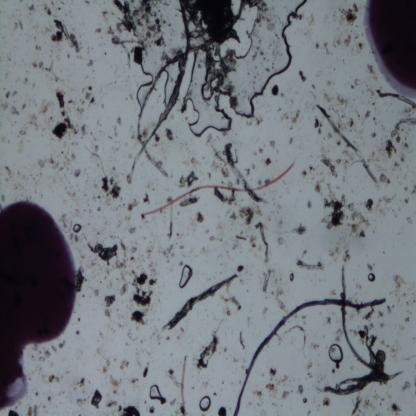Air bubble: (226, 0, 308, 119), (186, 53, 233, 139), (216, 4, 262, 58), (178, 264, 193, 288), (135, 81, 149, 106), (327, 343, 344, 363), (148, 382, 164, 401), (198, 395, 212, 412), (367, 272, 377, 284), (72, 222, 82, 233), (288, 271, 294, 282)
Background material: (112, 0, 168, 63), (187, 1, 260, 45), (201, 47, 238, 113), (321, 194, 370, 236), (50, 18, 81, 54), (328, 93, 355, 132), (131, 269, 158, 306), (195, 332, 218, 370), (86, 238, 120, 262), (283, 323, 308, 355), (265, 368, 287, 400), (29, 56, 57, 81), (358, 323, 378, 357), (99, 169, 122, 198), (238, 200, 261, 229), (319, 151, 341, 179), (260, 264, 279, 292), (219, 294, 242, 317), (52, 115, 76, 137), (18, 114, 40, 138), (376, 193, 398, 217), (39, 156, 75, 170), (338, 3, 360, 25), (214, 186, 237, 207), (271, 286, 288, 314), (392, 271, 408, 296), (116, 238, 128, 270), (74, 262, 86, 294), (101, 293, 116, 318), (130, 308, 149, 326), (101, 8, 114, 34), (282, 109, 304, 124), (55, 90, 67, 117), (384, 138, 398, 161), (83, 82, 96, 106), (177, 172, 199, 186), (180, 194, 200, 209), (117, 404, 141, 416), (90, 390, 104, 408), (350, 394, 362, 415), (168, 204, 175, 239), (161, 242, 174, 260), (291, 222, 307, 236), (333, 324, 344, 344), (166, 367, 178, 385), (364, 61, 376, 78), (378, 172, 392, 186), (117, 280, 129, 296), (100, 354, 110, 373), (297, 385, 307, 404), (40, 98, 52, 113), (108, 376, 123, 388), (238, 330, 247, 350), (233, 232, 248, 244), (364, 304, 374, 322), (343, 30, 352, 49), (80, 121, 90, 138), (340, 247, 350, 264), (314, 118, 324, 135), (128, 245, 138, 262), (390, 128, 400, 144), (390, 401, 402, 414), (163, 128, 174, 142), (128, 198, 139, 212), (270, 82, 281, 96), (44, 0, 54, 15), (3, 163, 13, 178), (359, 108, 371, 120), (47, 373, 60, 384), (196, 209, 206, 223), (322, 40, 330, 57), (400, 381, 412, 392), (249, 233, 257, 249), (313, 180, 322, 194), (298, 70, 307, 84), (321, 395, 332, 406), (119, 358, 130, 369), (141, 192, 151, 204), (280, 389, 290, 401), (365, 197, 373, 211), (27, 404, 37, 415), (106, 399, 117, 409), (76, 376, 85, 388), (305, 197, 313, 210), (142, 364, 150, 377), (262, 156, 272, 166), (252, 390, 262, 400), (324, 313, 332, 325), (59, 337, 67, 349), (127, 225, 136, 235), (10, 106, 20, 115), (236, 264, 245, 274), (72, 167, 82, 176), (369, 131, 378, 140), (401, 141, 410, 150), (44, 350, 52, 360), (7, 409, 19, 415), (148, 405, 156, 414), (5, 88, 11, 100), (269, 139, 276, 149), (359, 40, 364, 53), (377, 310, 385, 318), (86, 58, 94, 66), (403, 314, 411, 322), (393, 160, 400, 169), (406, 216, 413, 225), (117, 116, 122, 128), (410, 186, 416, 196), (386, 304, 392, 314), (400, 152, 406, 162), (28, 4, 35, 12), (404, 198, 410, 206)
Cellulose filter fibre: (136, 3, 244, 176), (233, 297, 387, 415), (129, 0, 190, 182), (340, 263, 402, 381), (317, 104, 379, 186), (162, 273, 238, 331), (314, 363, 402, 396), (224, 144, 266, 205), (375, 90, 416, 112), (254, 222, 271, 264), (179, 354, 188, 414), (295, 256, 325, 271), (393, 115, 416, 129)
Diatom: (375, 349, 386, 363)
Microfibre: (140, 160, 298, 218)
Pen: (0, 196, 81, 410), (361, 0, 416, 97)
